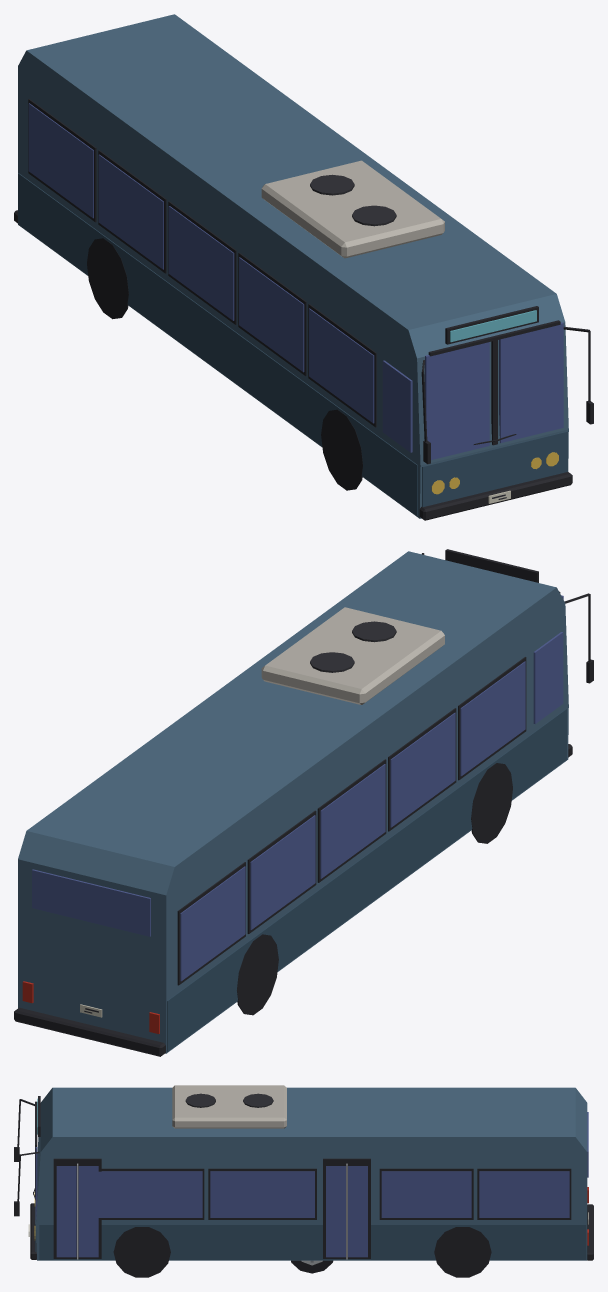
File: bus.glb
The picture shows the model from 3 angles, top to bottom: view 1: azimuth 30°, elevation 25°; view 2: azimuth 150°, elevation 25°; view 3: azimuth 270°, elevation 25°; orthographic projection. The views are drawn at different scales.
Parts seen in each view (by area): view 1: body, lights; view 2: body; view 3: body, wheel0.
Part boxes in pixels (<box>): body: <box>14,14,593,520</box>; lights: <box>431,310,558,494</box>; body: <box>14,549,593,1056</box>; body: <box>14,1085,593,1277</box>; wheel0: <box>291,1260,333,1273</box>.
Size of the model in its own units: 2.78 by 3.93 by 12.12.
